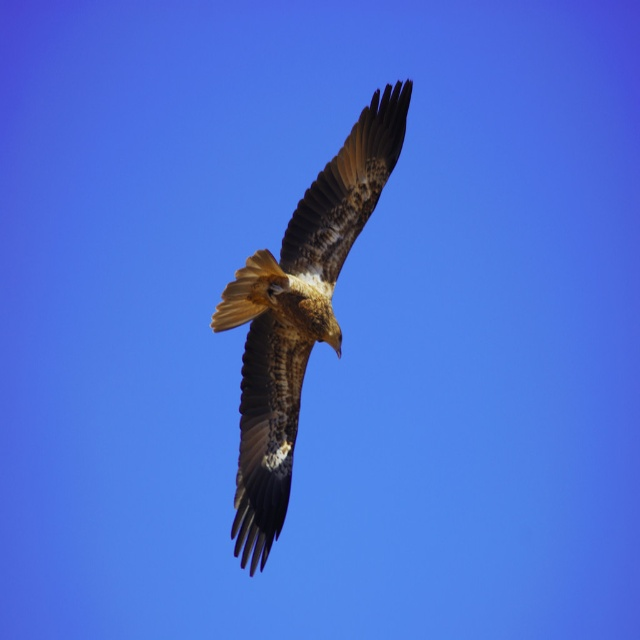Eagle: (198, 65, 417, 581)
